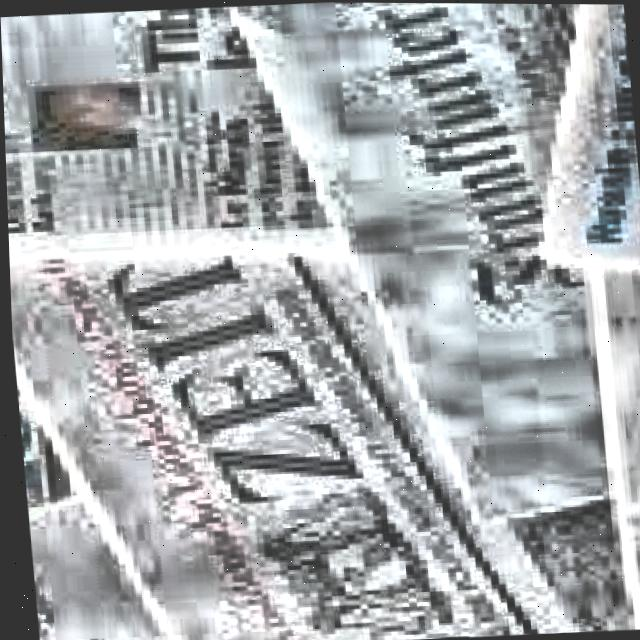paper: (0, 0, 640, 640), (131, 1, 640, 548), (7, 233, 639, 640), (0, 0, 342, 266), (23, 480, 346, 640)
